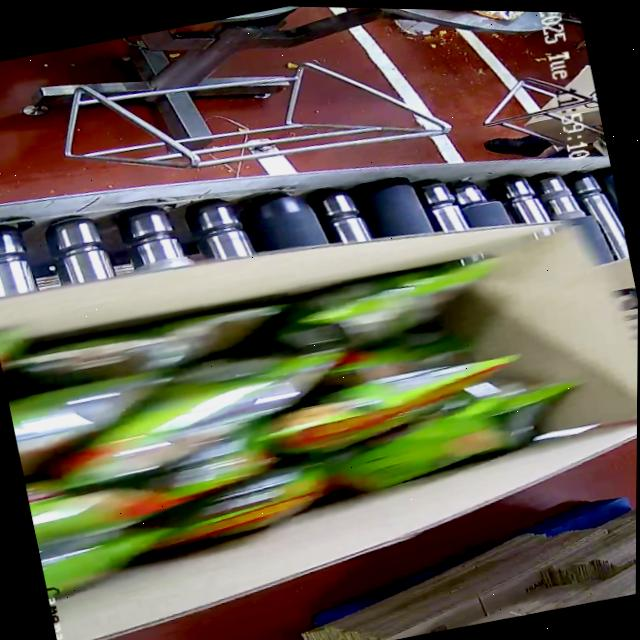YOGURT_HERB: (0, 234, 569, 593)
